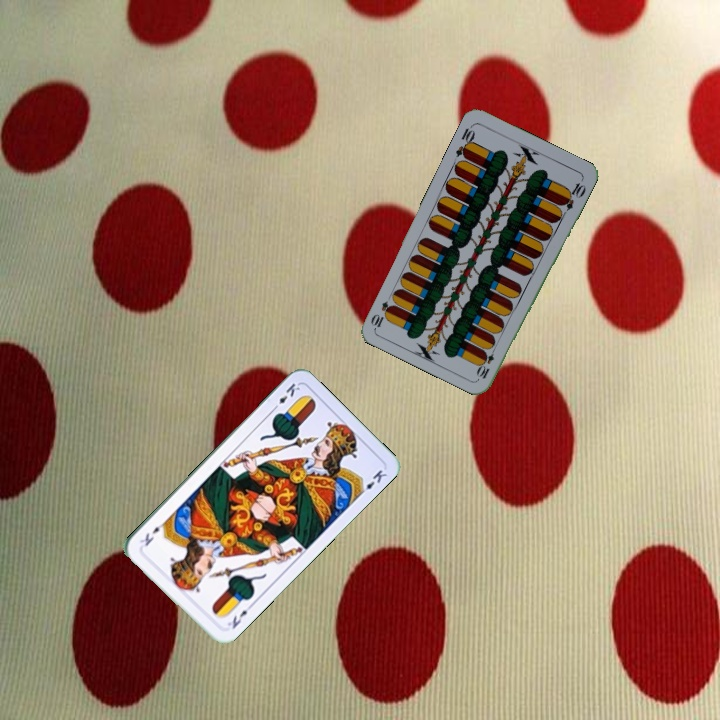E10: (452, 121, 478, 161), (474, 342, 499, 381)
EK: (268, 379, 303, 413), (224, 600, 255, 631)
